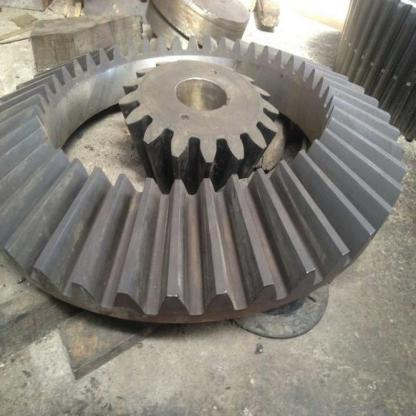FOD: (0, 33, 411, 333), (116, 56, 286, 196)
